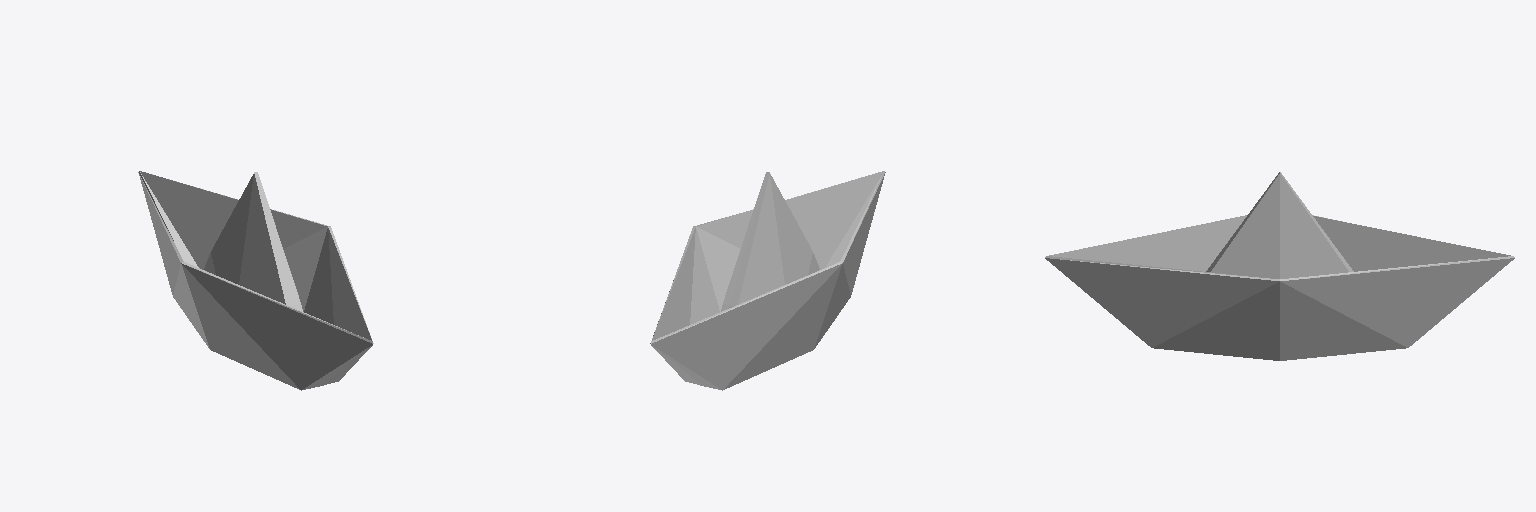
The model's file is P_BARCO.obj.
3 views of the same model, side by side, from view 1: azimuth 30°, elevation 25°; view 2: azimuth 150°, elevation 25°; view 3: azimuth 270°, elevation 25° (orthographic).
Visible parts, largest first — view 1: Plane; view 2: Plane; view 3: Plane.
Part boxes in pixels (left/top/right/bottom): Plane: left=138, top=171, right=373, bottom=390; Plane: left=650, top=171, right=885, bottom=390; Plane: left=1045, top=172, right=1514, bottom=360.
Size of the model in its own units: 2.08 by 2.22 by 5.66.